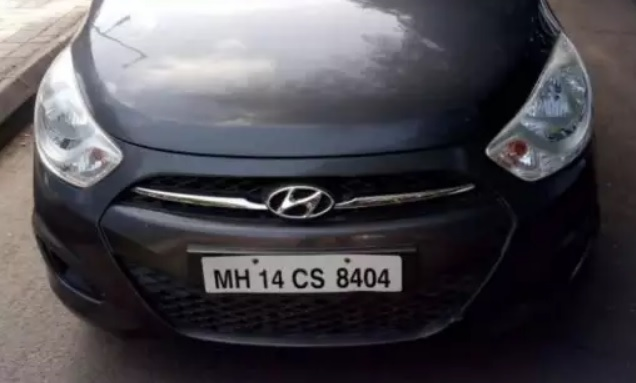licenseplate: (193, 252, 407, 295)
